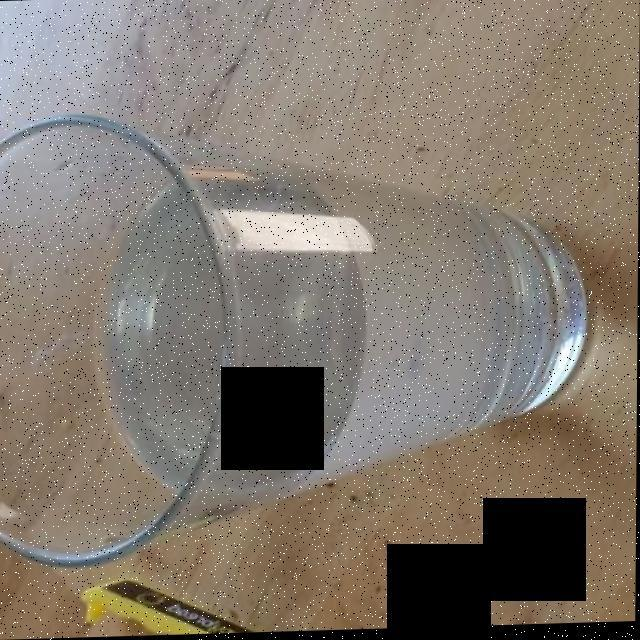drink: (42, 153, 546, 525)
